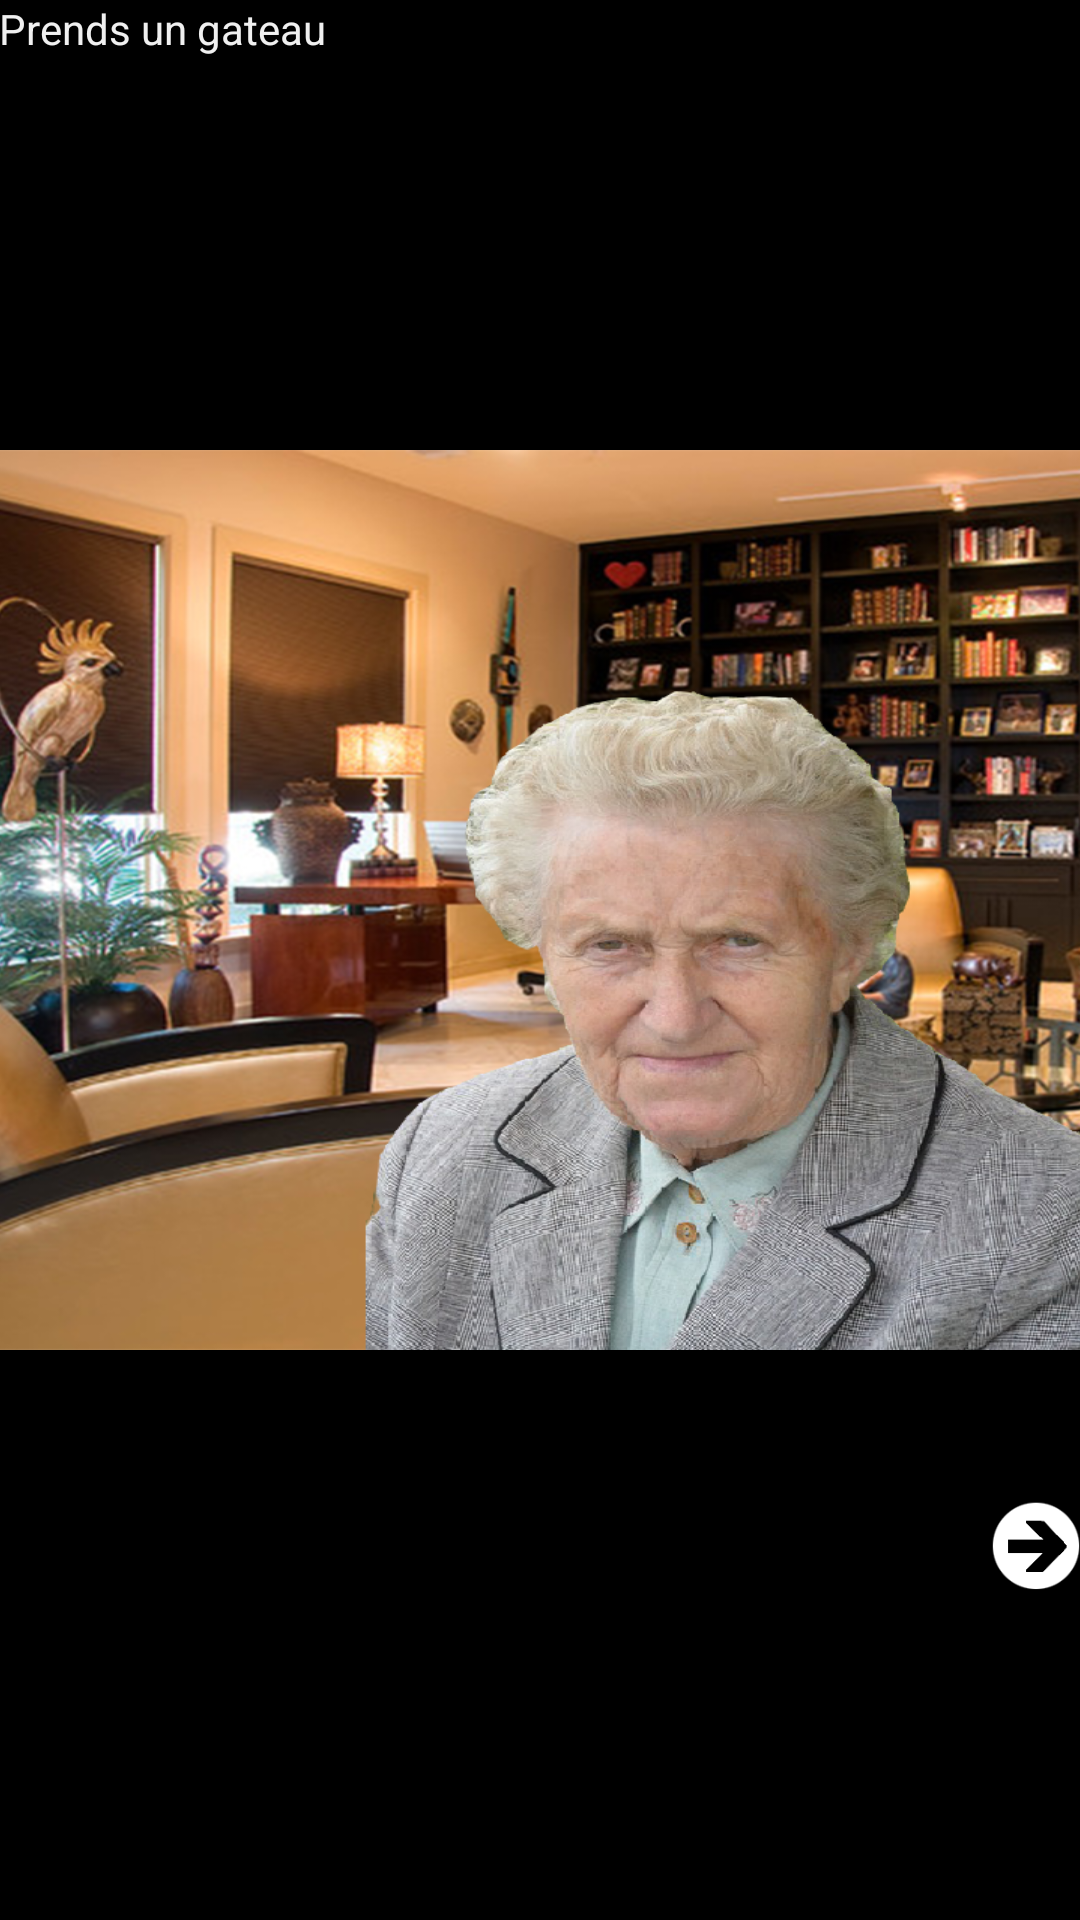

Icons on this 1080 × 1920 Android screen, each with its box as [left=x1, top=y1, right=x2, bottom=y2]:
bouton fleche droite: [left=992, top=1502, right=1080, bottom=1589]
